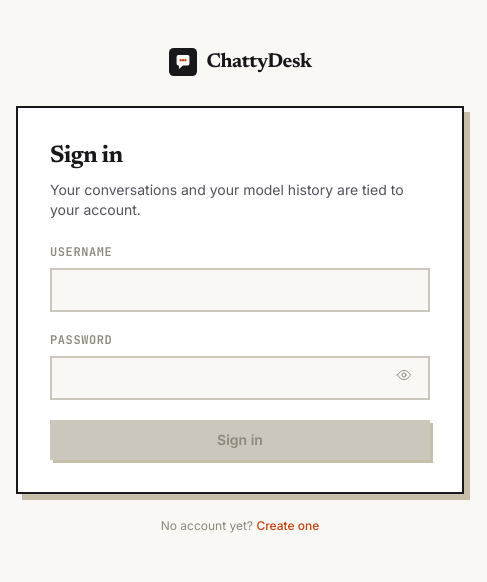
Scenario: signing in › shows the reason the server gave when sign-in fails
Step 1. Type "ada" into the field labelled "Username" → (240, 290), box x1=50 y1=268 x2=430 y2=312
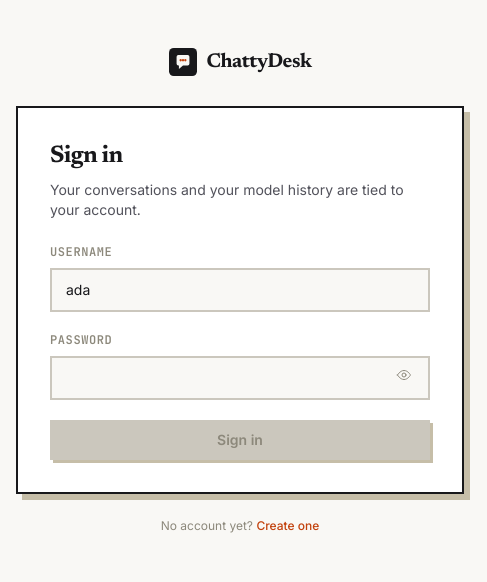
Step 2. Type "correct-horse-42" into the password field labelled "Password" → (240, 378), box x1=50 y1=356 x2=430 y2=400
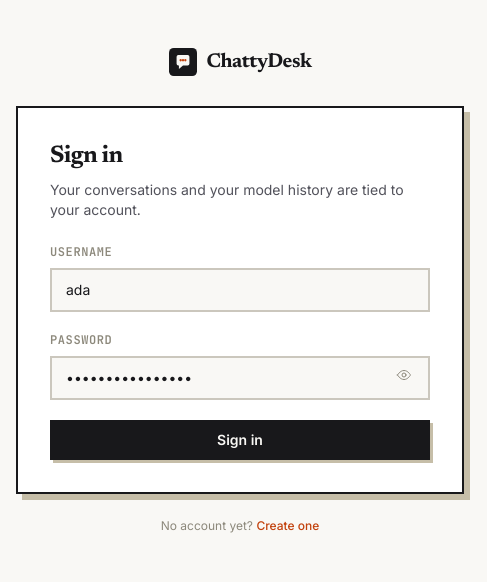
Step 3. Click the button "Sign in" → (240, 440), box x1=50 y1=420 x2=430 y2=460
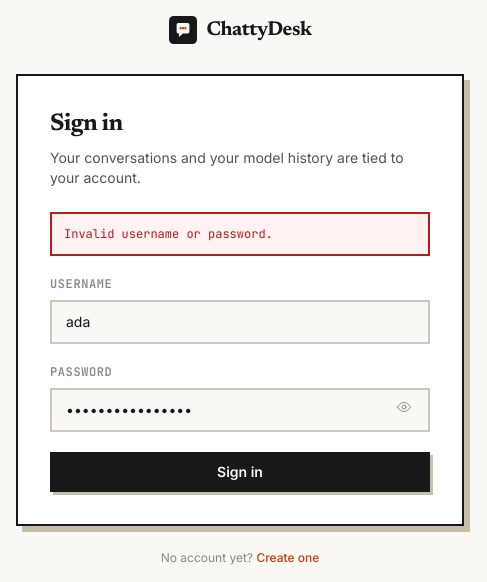
Expected: the heading "Sign in" is shown, x1=50 y1=112 x2=123 y2=136
Expected: the message reads "Invalid username or password.", x1=64 y1=226 x2=273 y2=242
